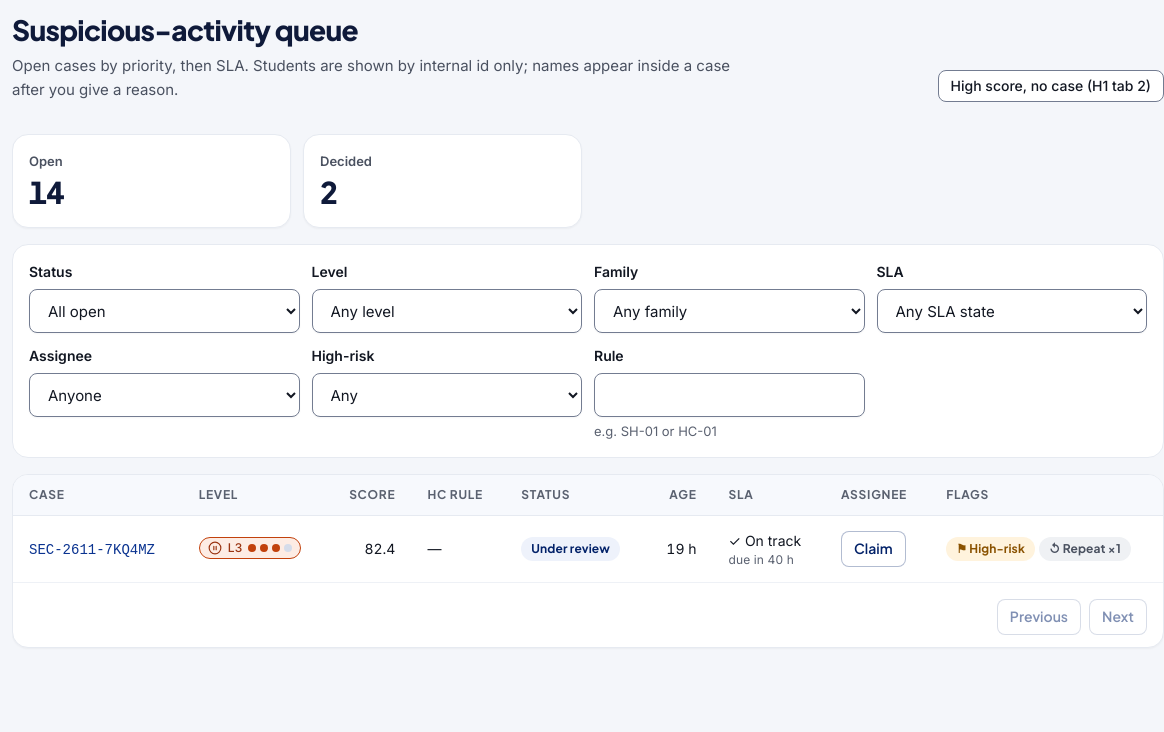
Scenario: CaseQueue (SEC-002 / H1) › lists cases with staff risk badge, counts, filters and a conflict-checked claim
Expected: the picture named "Level 3 of 4" is shown, left=248, top=544, right=292, bottom=552
Expected: the text "⚑ High-risk" is shown, left=946, top=537, right=1035, bottom=561
Select "L3–L4" in the dropdown labelled "Level" at (447, 311), box left=312, top=289, right=582, bottom=333
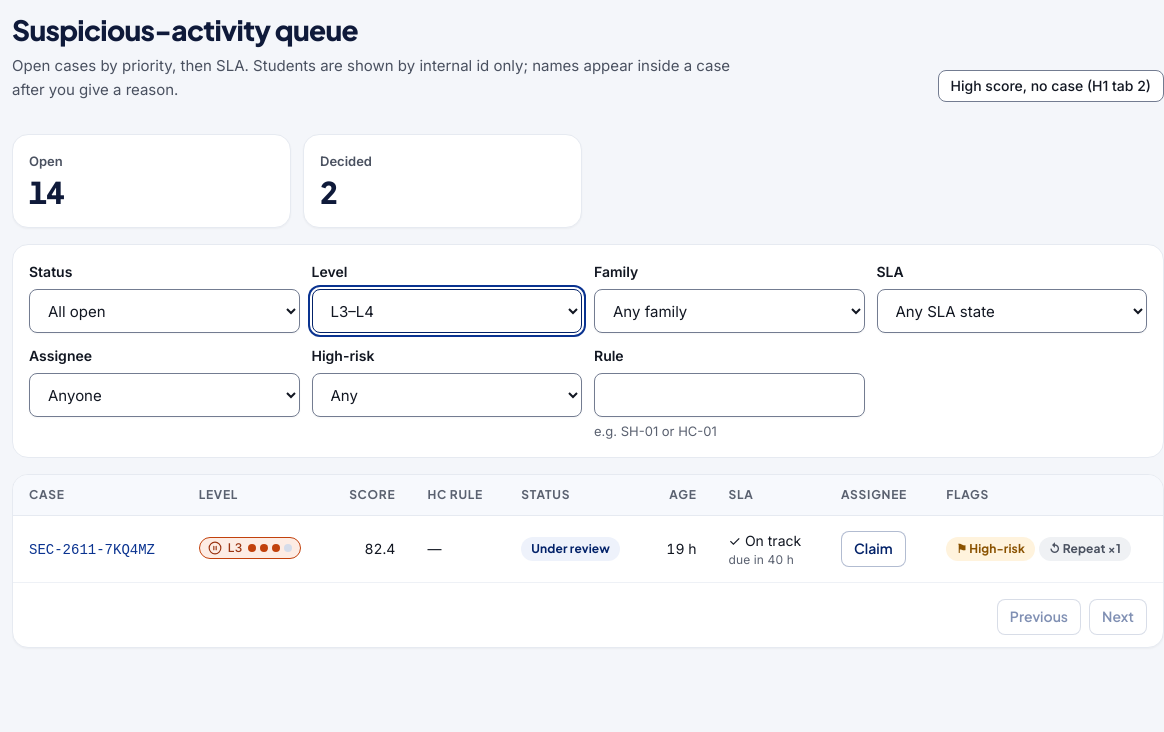
Click the button with aria-label "Claim SEC-2611-7KQ4MZ" at (873, 549), box left=841, top=531, right=906, bottom=567
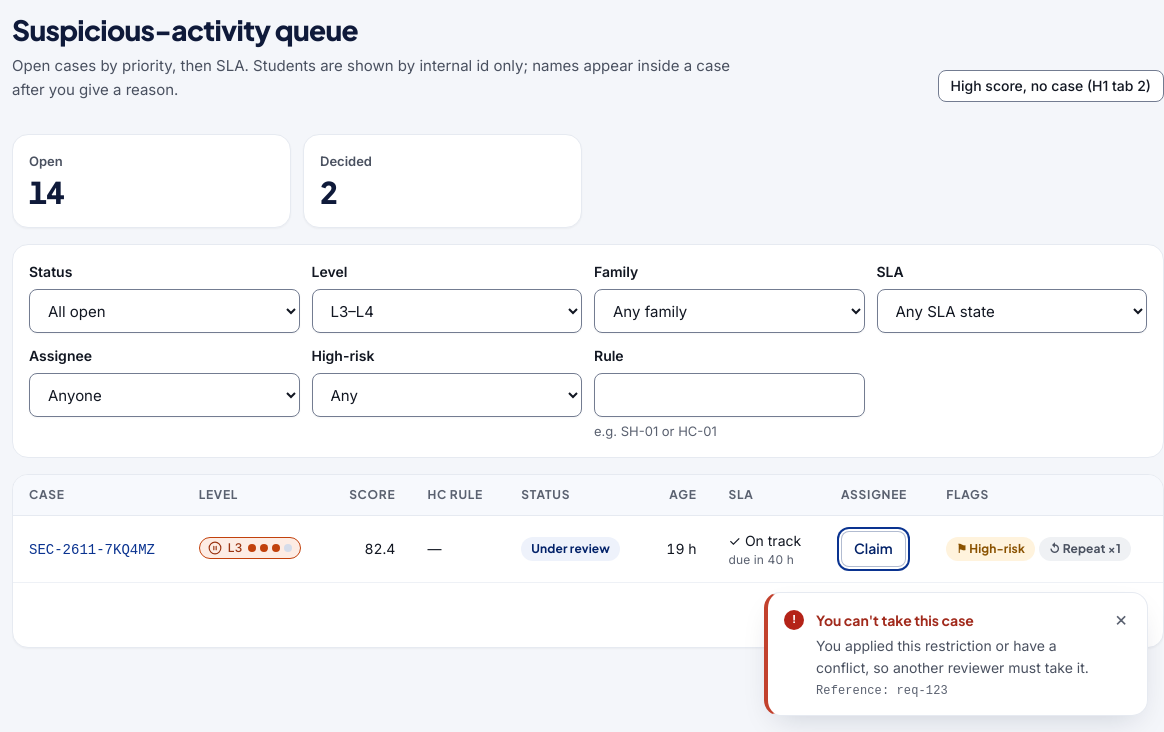
Now the text "You can't take this case" is shown, box left=816, top=611, right=974, bottom=629
